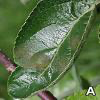Apple Scab Leaf: (6, 1, 99, 98)
